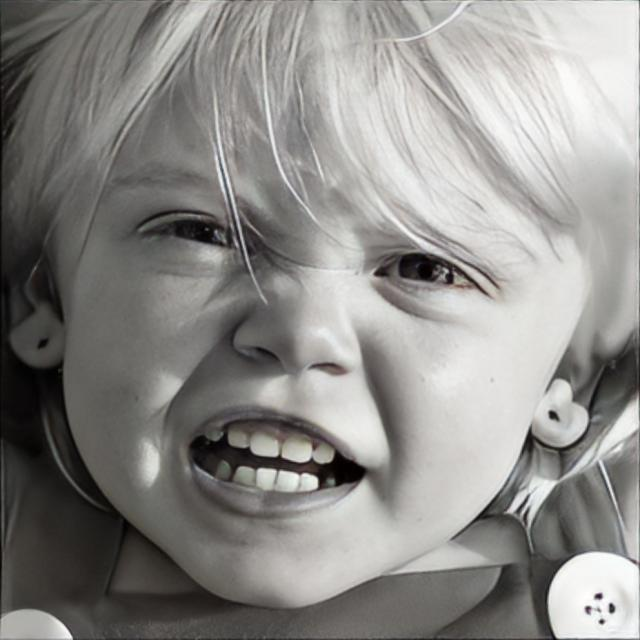anger: (57, 57, 586, 609)
